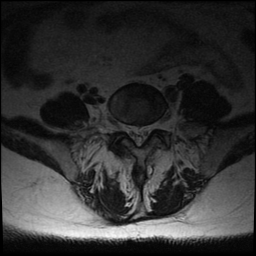CCS_normal: (135, 120, 142, 151)
LFS_normal: (149, 116, 157, 136)
LLS_normal: (142, 120, 150, 144)
RFS_normal: (118, 117, 128, 138)
RLS_normal: (127, 119, 135, 146)
